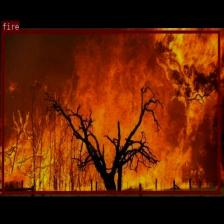fire: (2, 30, 220, 193)
